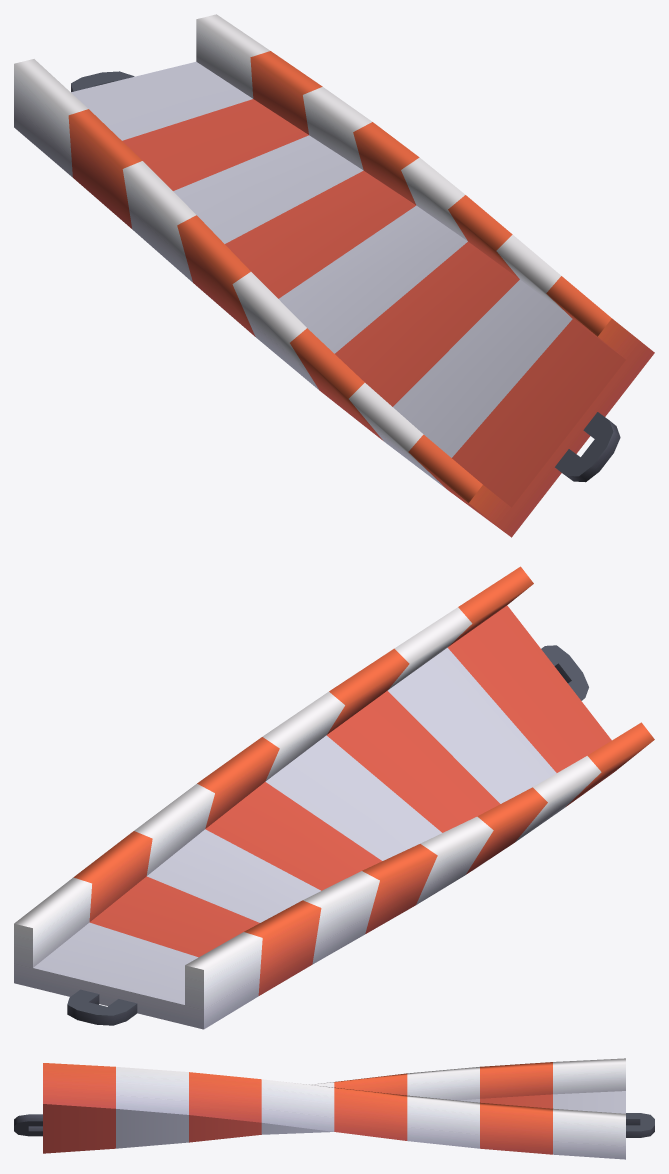
The model's file is track-striped-narrow-straight-skew-right.glb.
3 renders of one model, top to bottom at view 1: azimuth 30°, elevation 25°; view 2: azimuth 150°, elevation 25°; view 3: azimuth 270°, elevation 25°, orthographic. The views are drawn at different scales.
Visible parts, largest first — view 1: track-striped-narrow-straight-skew-right; view 2: track-striped-narrow-straight-skew-right; view 3: track-striped-narrow-straight-skew-right.
Boxes of the visible parts, <box> form: track-striped-narrow-straight-skew-right: <box>14,14,654,537</box>; track-striped-narrow-straight-skew-right: <box>14,566,654,1029</box>; track-striped-narrow-straight-skew-right: <box>14,1058,654,1159</box>.
Size of the model in its own units: 1.08 by 0.919 by 4.4.
1 material, 1 textured.
